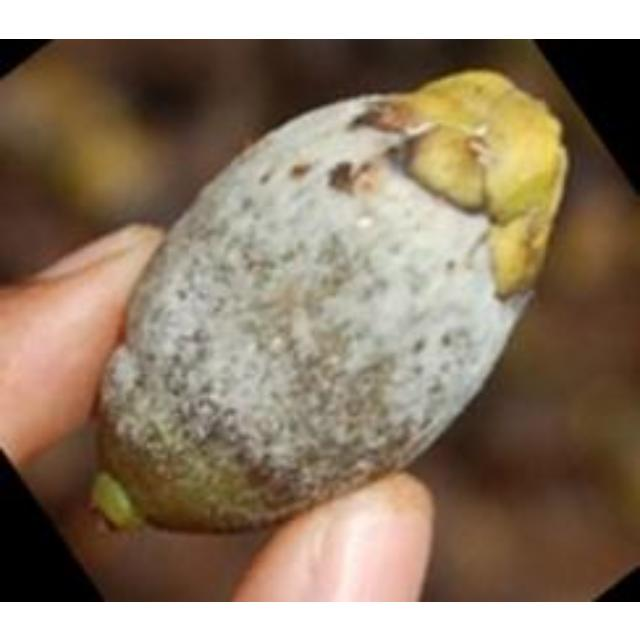damaged: (92, 69, 567, 528)
